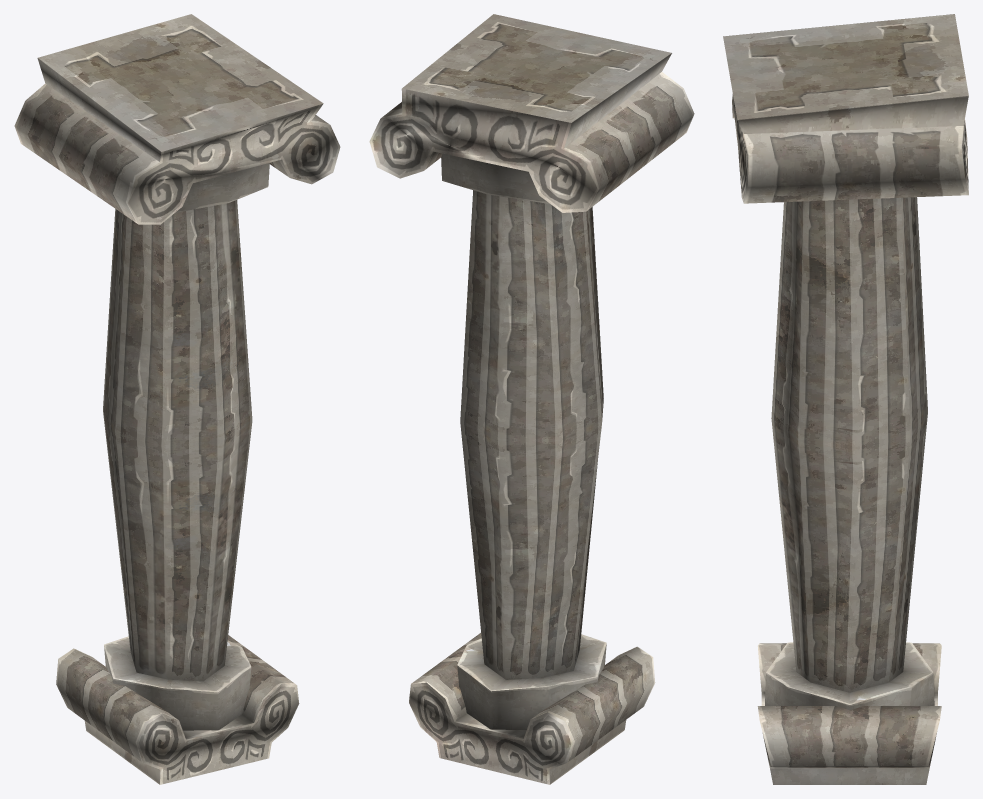
Rendered from Toon_Column_01_Full.fbx.
3 views of the same model, side by side, from view 1: azimuth 30°, elevation 25°; view 2: azimuth 150°, elevation 25°; view 3: azimuth 270°, elevation 25° (orthographic). The views are drawn at different scales.
Visible parts, largest first — view 1: Toon_Column_01_Full; view 2: Toon_Column_01_Full; view 3: Toon_Column_01_Full.
Part boxes in pixels (x1,y1,x2,y2): Toon_Column_01_Full: [14, 14, 340, 784]; Toon_Column_01_Full: [369, 14, 694, 784]; Toon_Column_01_Full: [723, 14, 968, 784].
Bounding box in the file's own units: 6.98 × 19.65 × 6.28.
